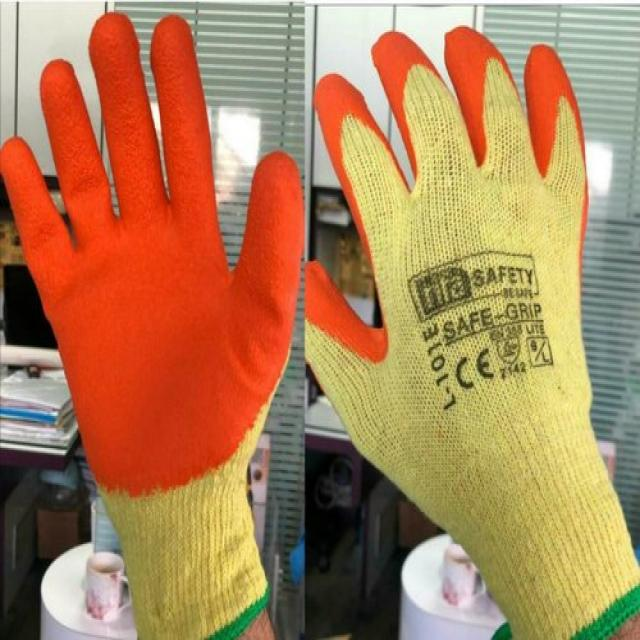gloves: (302, 25, 640, 640), (0, 8, 307, 640)
